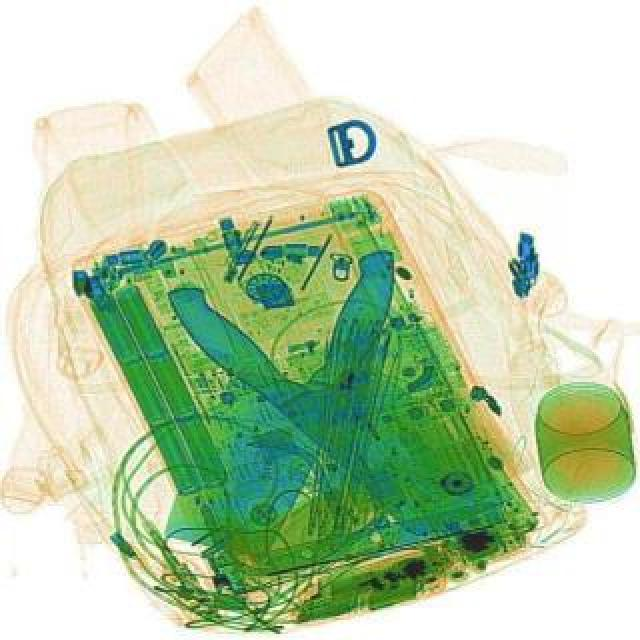knife: (154, 230, 518, 568), (154, 218, 406, 574)
